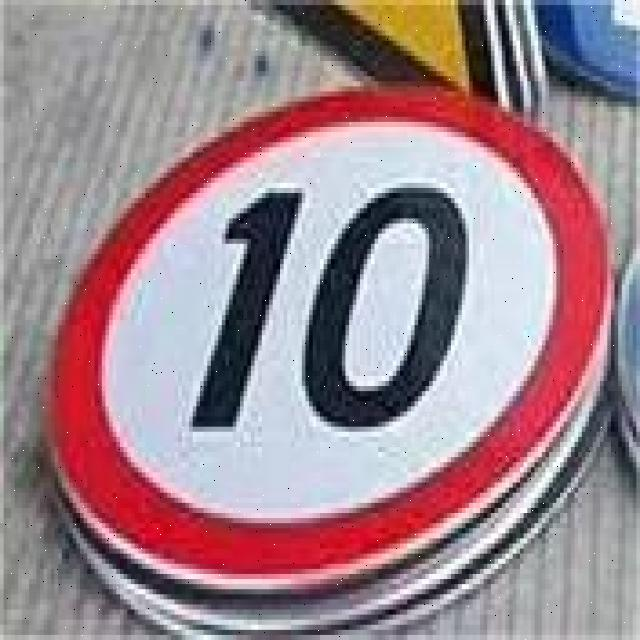speed limit 10: (49, 81, 613, 594)
